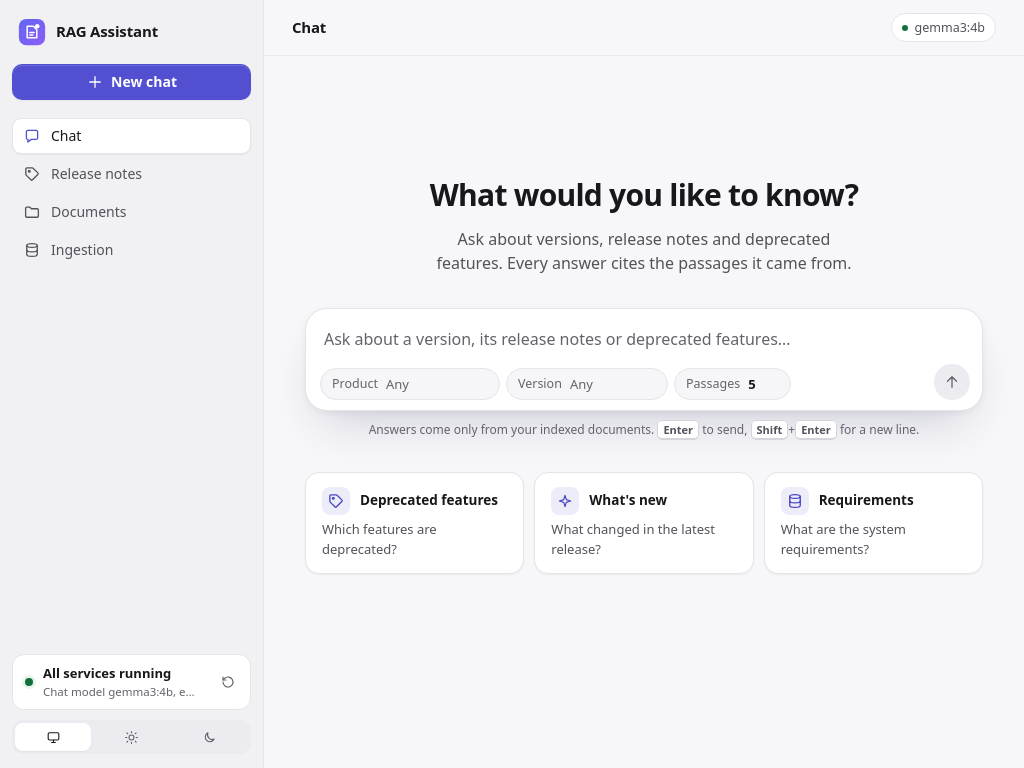
Test: App: chat across the shell › New chat starts an empty conversation and clears the session list
Type "Old question?" into the text box named "Question" at (645, 340), box left=320, top=323, right=970, bottom=356
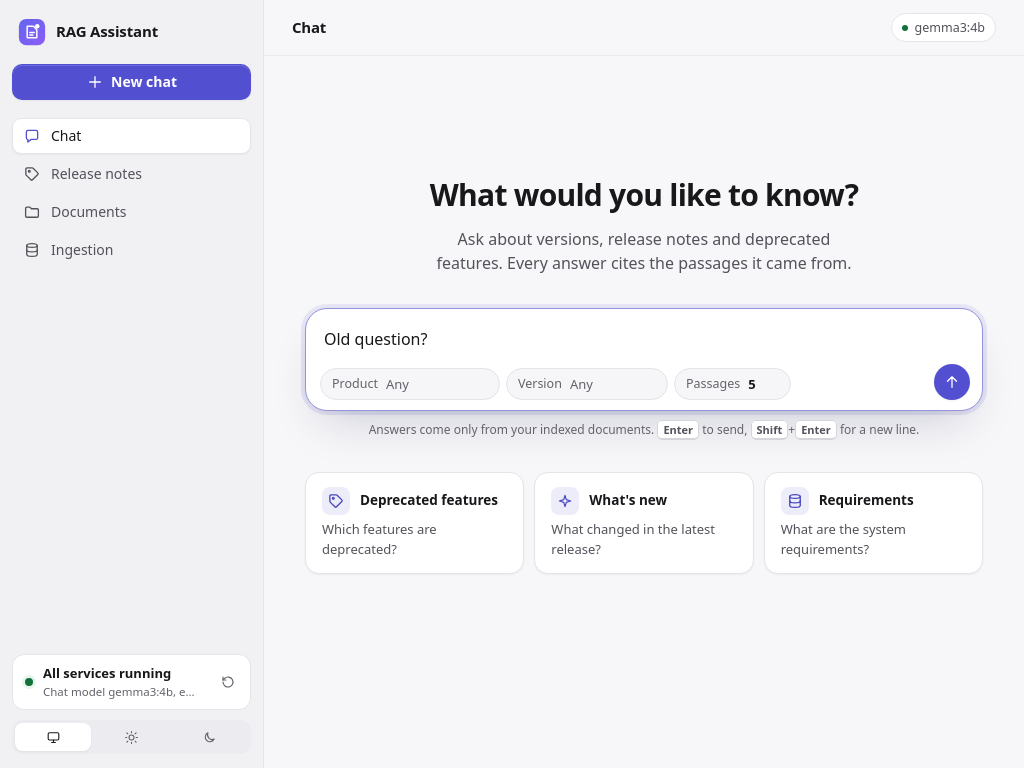
Click the button named "Ask" at (952, 382), box left=934, top=364, right=970, bottom=400
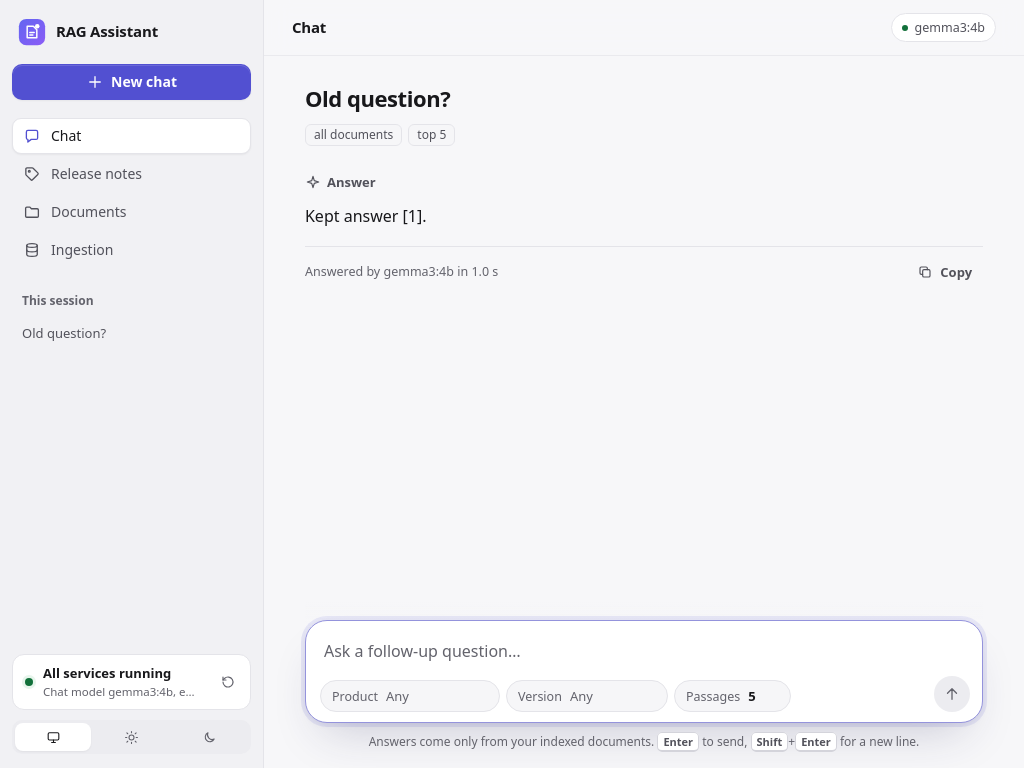
Result: the heading "This session" is shown at left=22, top=292, right=94, bottom=309
Click the button "New chat" at (132, 82), box left=12, top=64, right=251, bottom=100
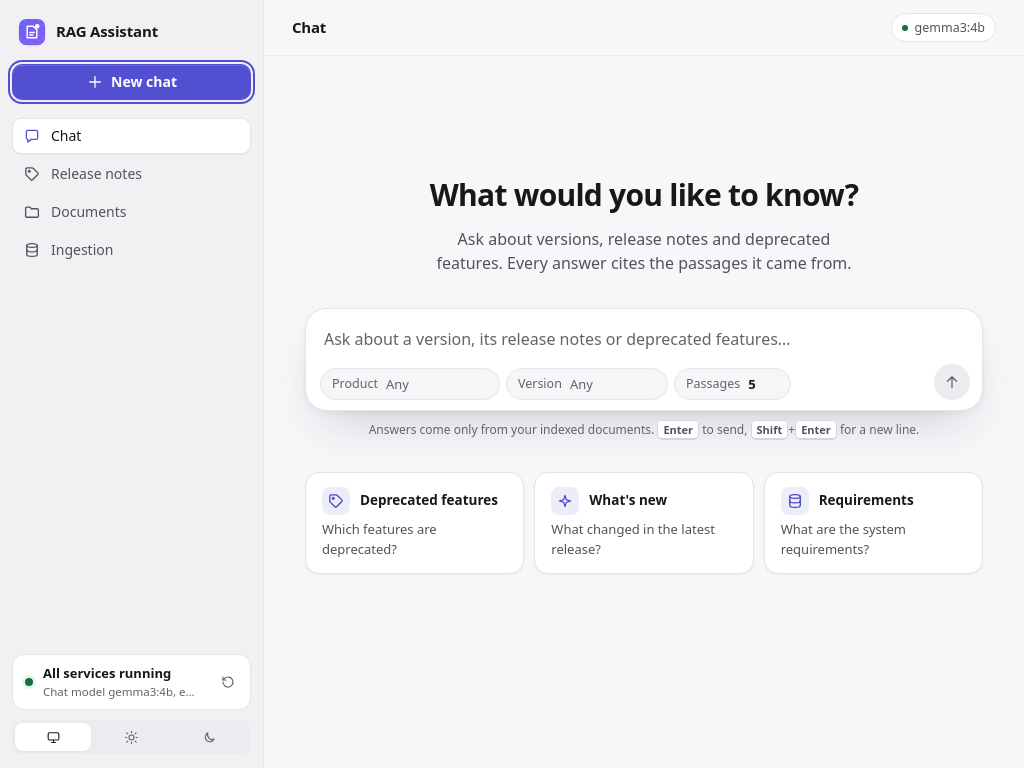
Result: the heading "What would you like to know?" is shown at left=430, top=178, right=858, bottom=212
Result: the text "Kept answer" is gone
Result: the heading "This session" is gone
